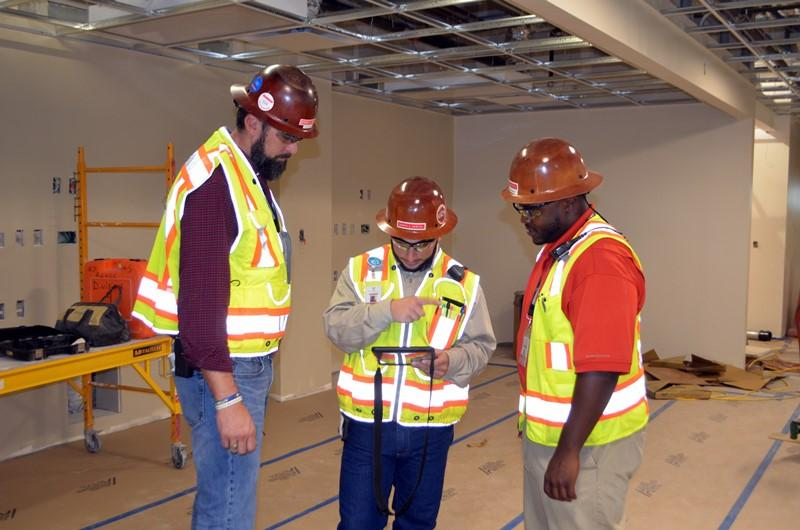helmet: (498, 137, 607, 207), (230, 64, 322, 142), (376, 177, 460, 244)
